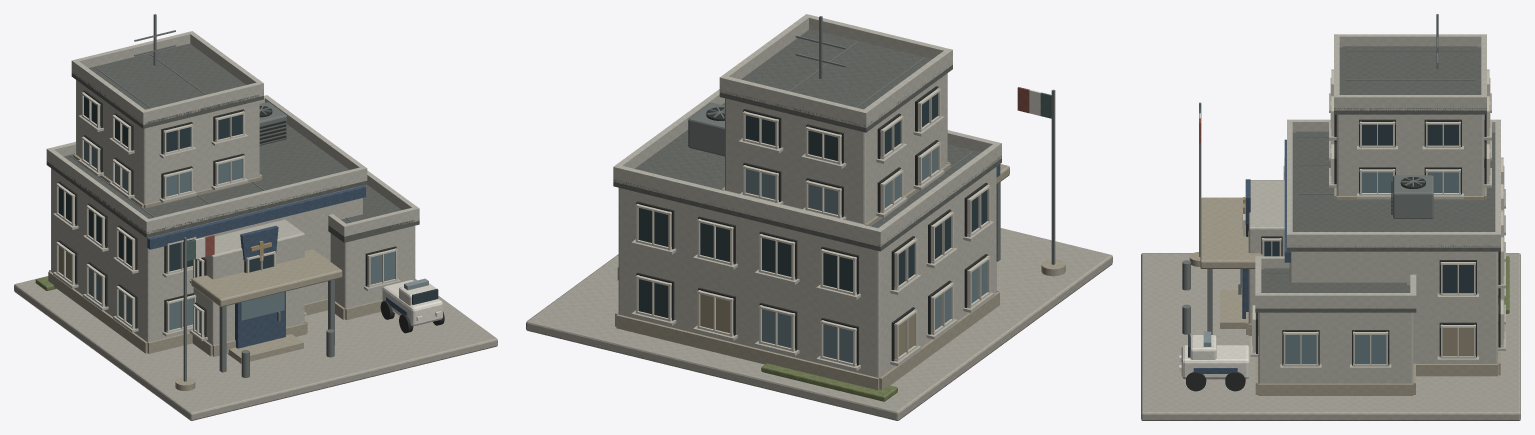
The model's file is CIV_POLICE_2x2_001.glb.
3 renders of one model, left to right at view 1: azimuth 30°, elevation 25°; view 2: azimuth 150°, elevation 25°; view 3: azimuth 270°, elevation 25°, orthographic. The views are drawn at different scales.
Parts seen in each view (by area): view 1: CIV_POLICE_2x2_001_Visual; view 2: CIV_POLICE_2x2_001_Visual; view 3: CIV_POLICE_2x2_001_Visual.
Boxes of the visible parts, x1,y1,x2,y2 form: CIV_POLICE_2x2_001_Visual: (14,14,497,420); CIV_POLICE_2x2_001_Visual: (526,14,1112,420); CIV_POLICE_2x2_001_Visual: (1141,14,1520,420).
Size of what is drawn, in the model's own units: 3.92 by 3.42 by 3.92.
19 materials, 13 textured.
